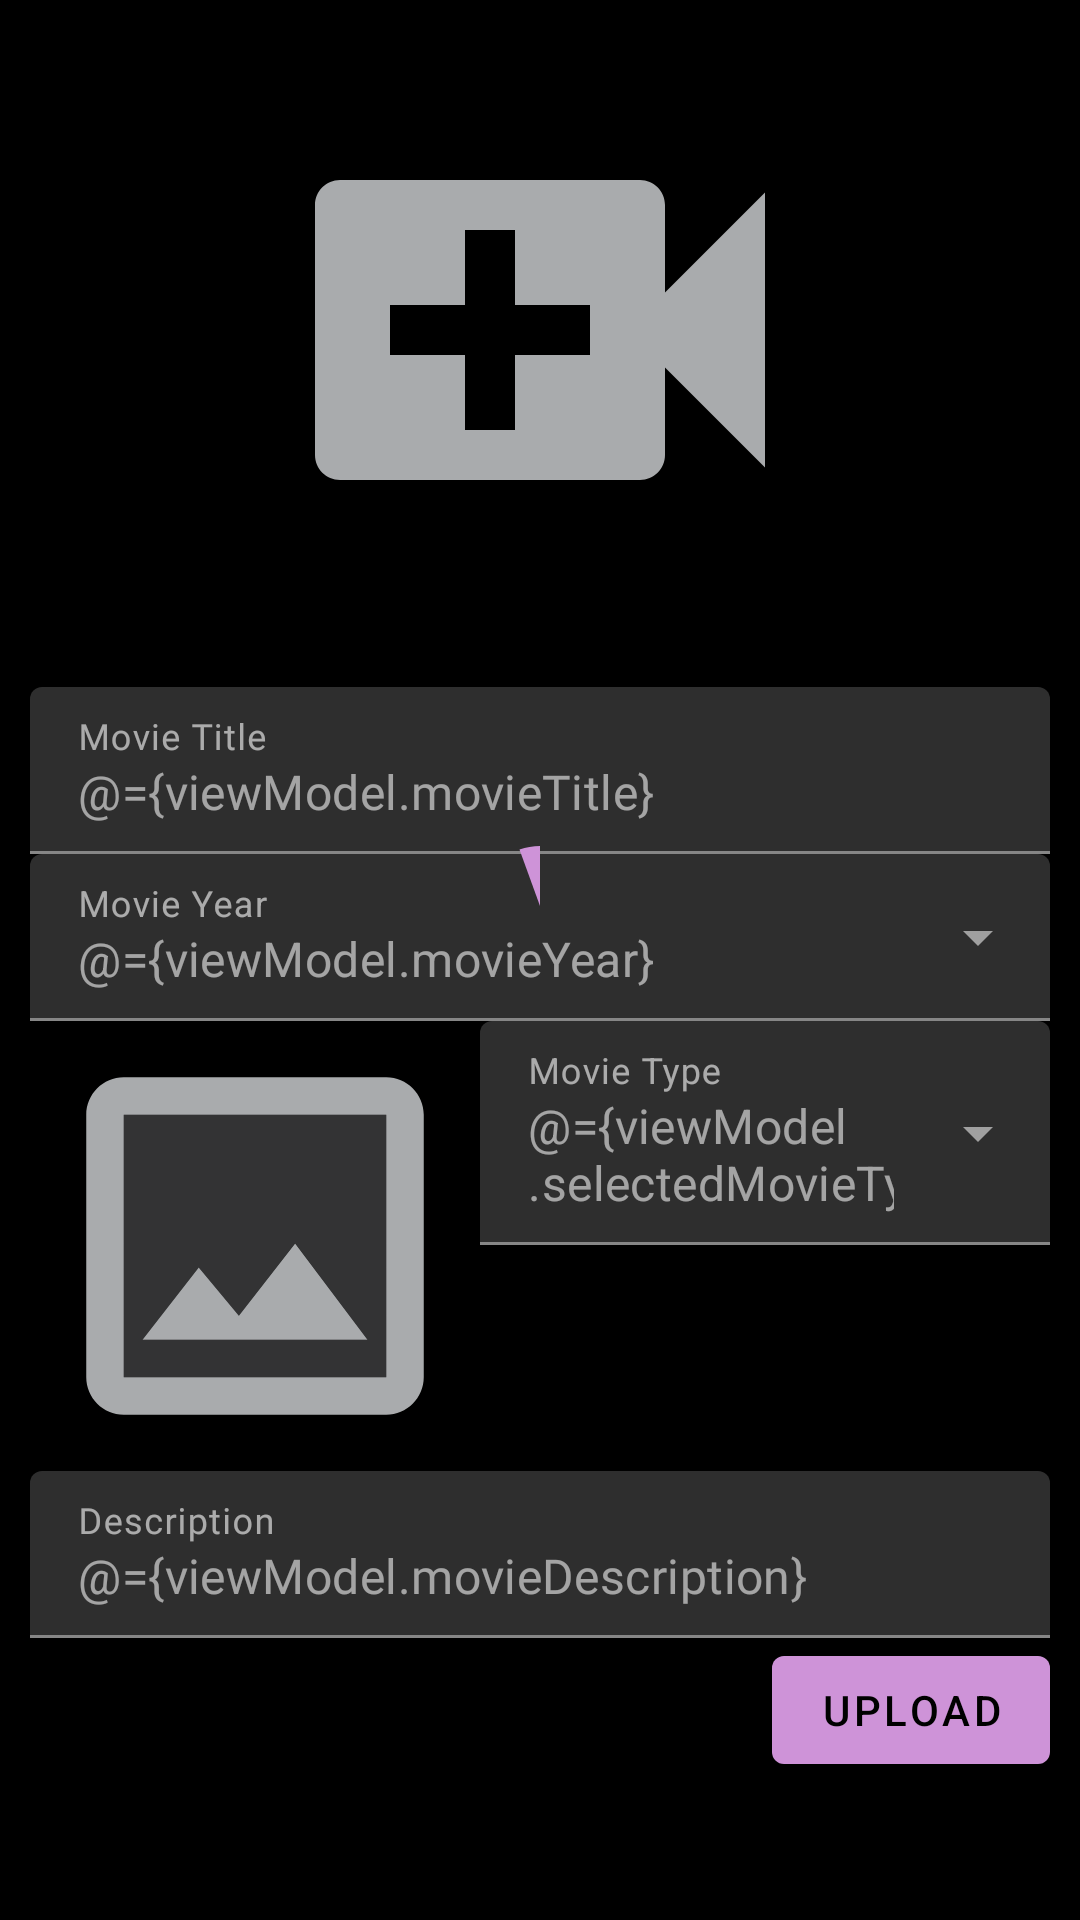

Locate icon controls on the screen. Image size 1080w x 1920h, boxes as (x1, y1, x2, y2).
photo: (86, 1077, 424, 1415)
